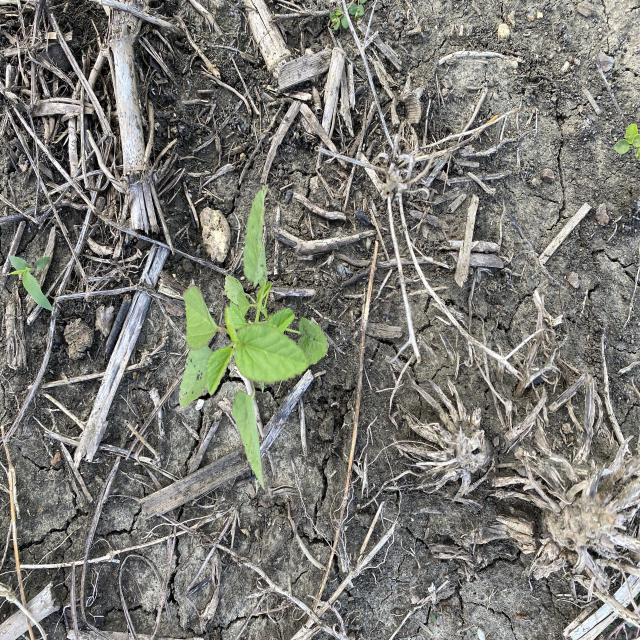PricklySida: (177, 181, 331, 494)
